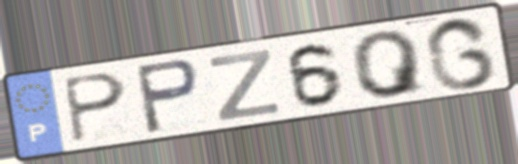6: (284, 41, 347, 109)
G: (422, 14, 500, 92)
P: (132, 57, 203, 137), (59, 70, 130, 146)
Q: (348, 27, 430, 101)
Z: (206, 46, 282, 124)
